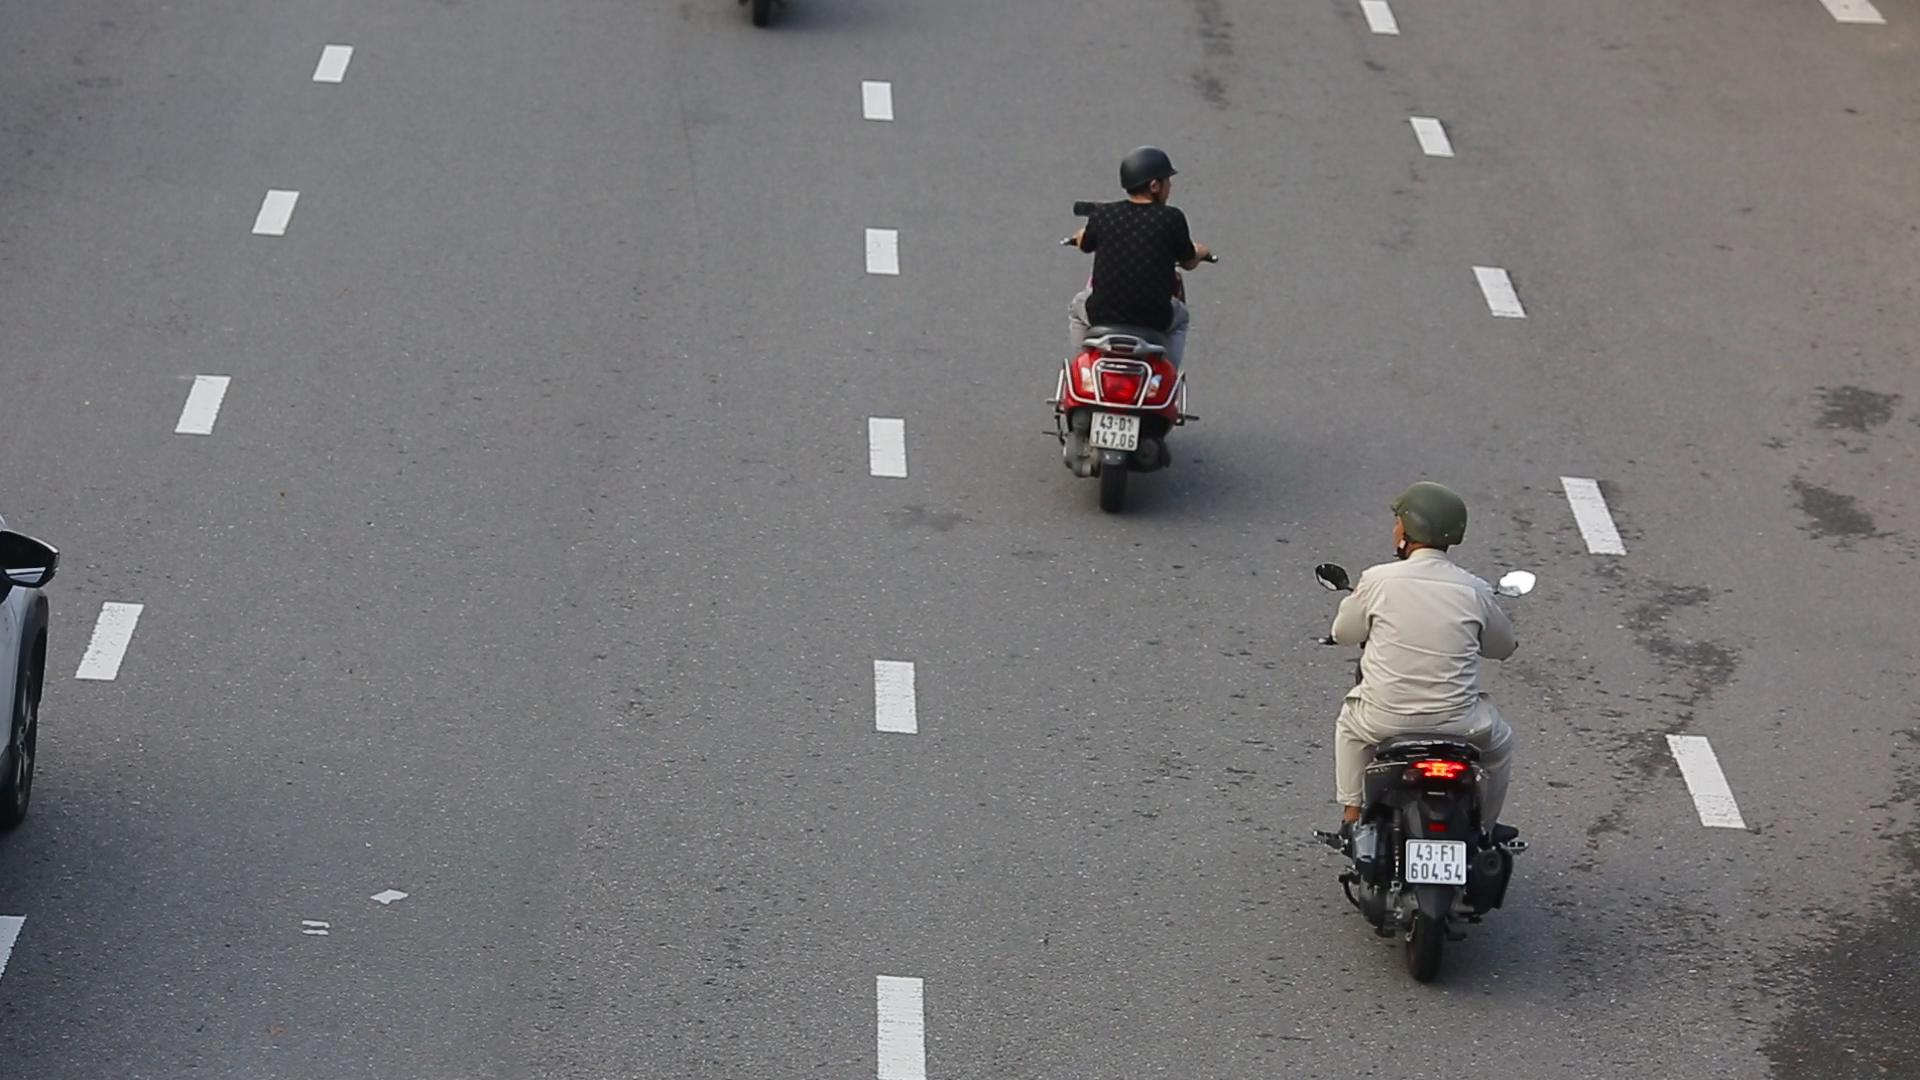motobike: (1327, 468, 1544, 981), (1055, 144, 1221, 524)
